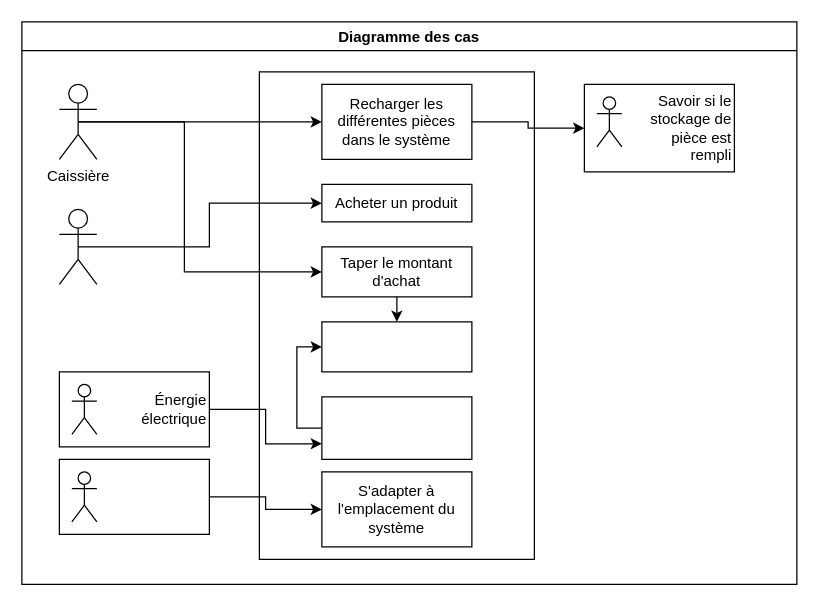
The diagram is 819 pixels wide and 606 high, and some of its shapes have lost their labels. Each missing label, with the box of its shape:
Alimenter et stocker l'énergie éléctrique: (321, 396, 472, 459)
Client: (58, 208, 97, 284)
Comptoire: (58, 458, 209, 534)
Rendre la monnaie automatiquement: (321, 321, 472, 372)
